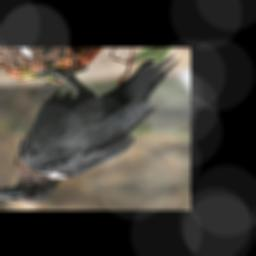Crow: (0, 55, 181, 205)
